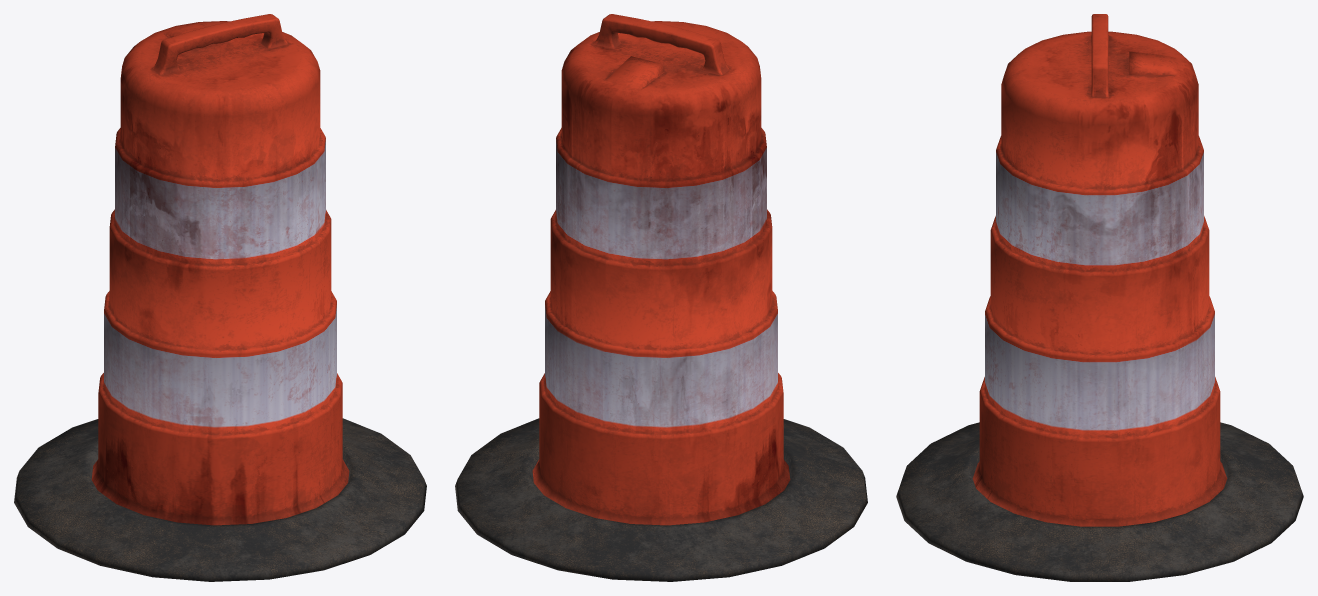
File: street_barrel.fbx
3 renders of one model, left to right at view 1: azimuth 30°, elevation 25°; view 2: azimuth 150°, elevation 25°; view 3: azimuth 270°, elevation 25°, orthographic.
Visible parts, largest first — view 1: street_barrel; view 2: street_barrel; view 3: street_barrel.
Boxes of the visible parts, x1,y1,x2,y2 form: street_barrel: (14,14,426,581); street_barrel: (455,14,867,581); street_barrel: (896,14,1303,581).
Bounding box in the file's own units: 1.57 × 1.97 × 1.59.
Materials: 2 (2 with a texture image).
